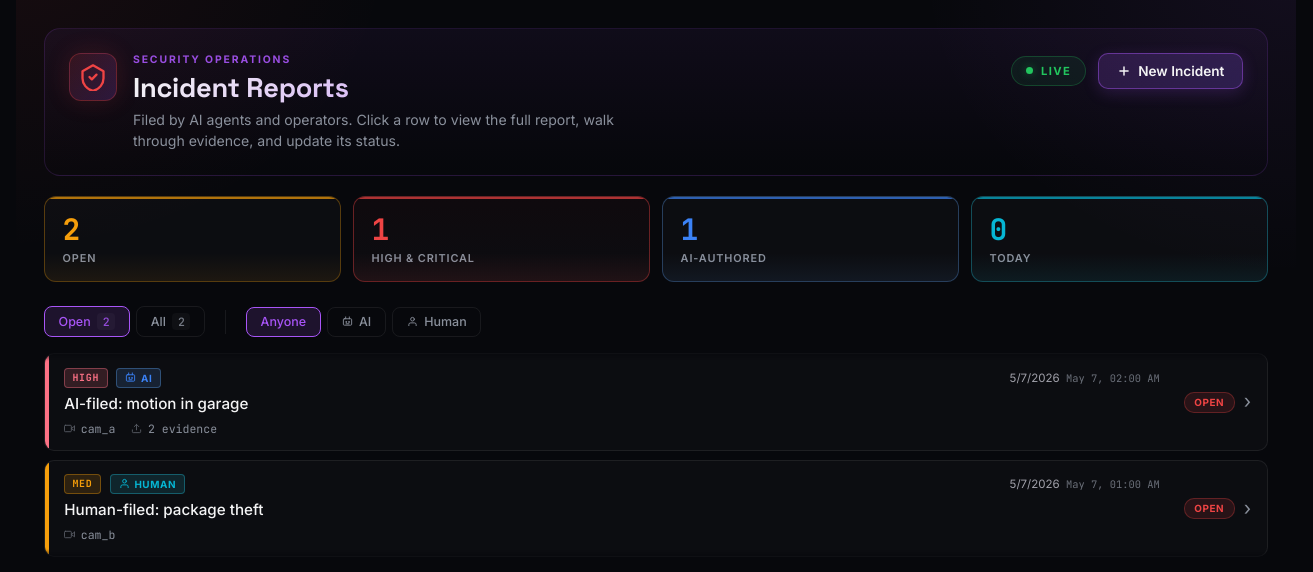
Test: IncidentsPage › source filter "Human" hides AI-filed rows
Expected: the text "AI-filed: motion in garage" is shown, [64, 394, 248, 413]
Click the button "Human": (437, 322) [392, 307, 481, 337]
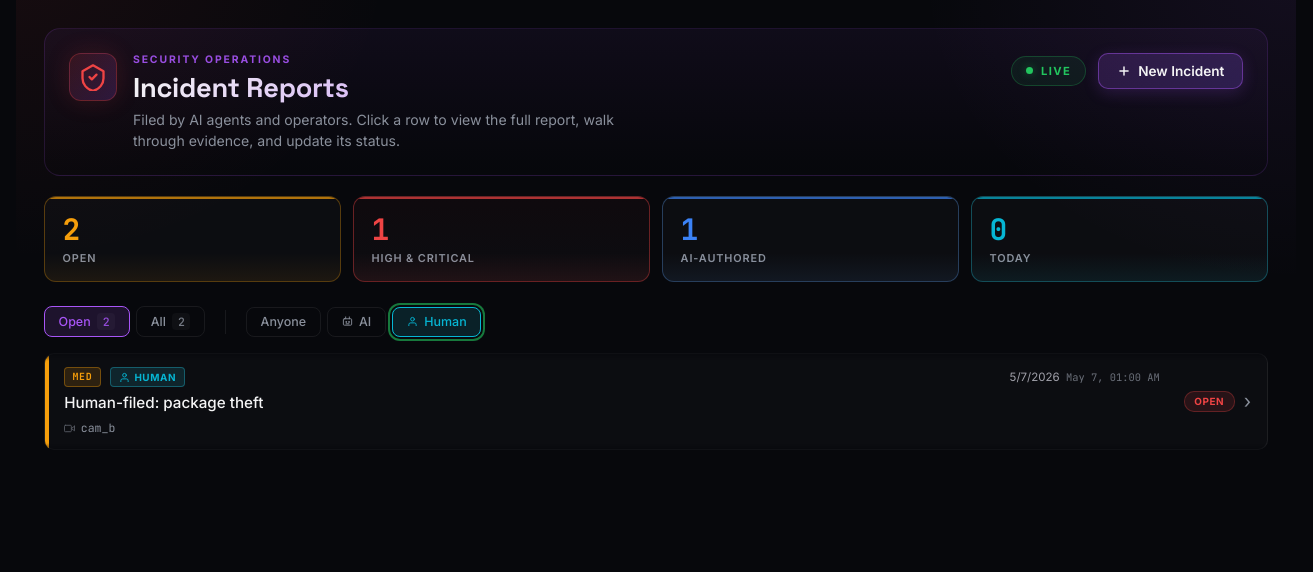
Expected: the text "Human-filed: package theft" is shown, [64, 394, 263, 413]
Expected: the button "AI-filed: motion in garage" is gone
